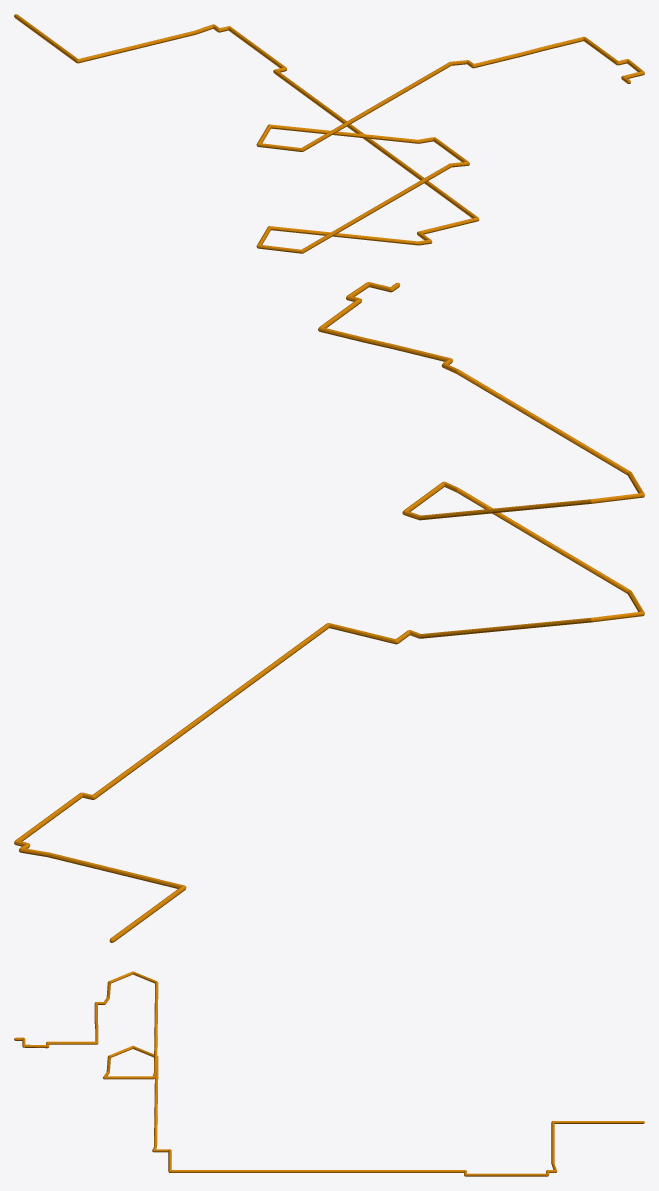
3 renders of one model, top to bottom at view 1: azimuth 30°, elevation 25°; view 2: azimuth 150°, elevation 25°; view 3: azimuth 270°, elevation 25°, orthographic. The views are drawn at different scales.
Size of the model in its own units: 1619 by 1020 by 3845.
